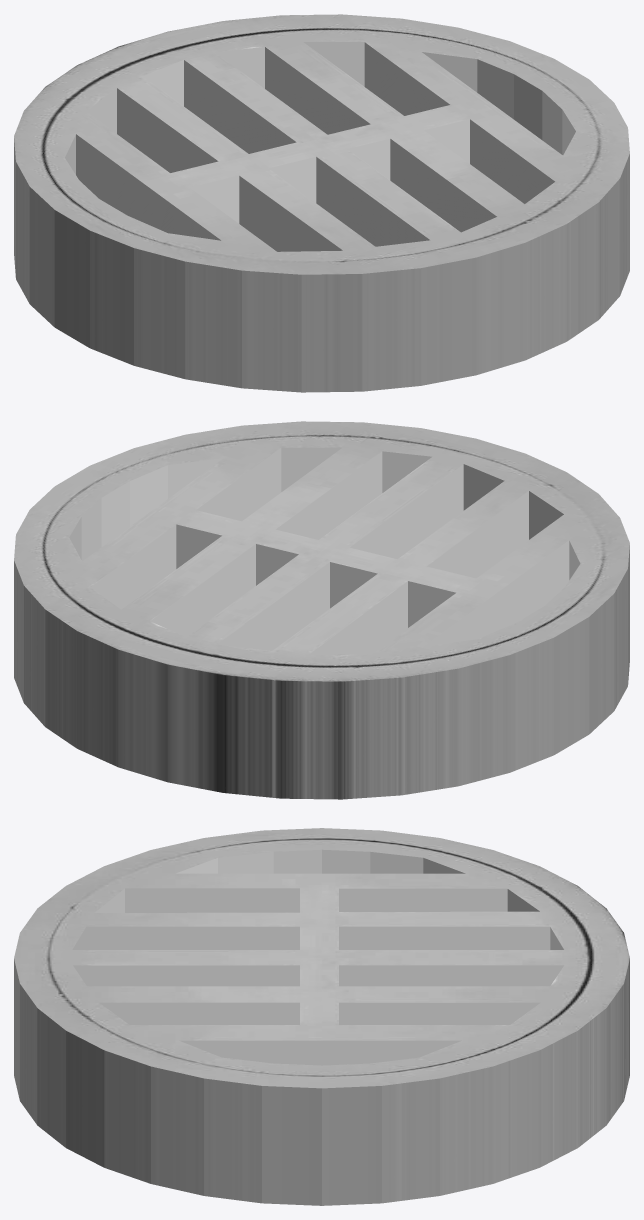
3 views of the same model, one above another, from view 1: azimuth 30°, elevation 25°; view 2: azimuth 150°, elevation 25°; view 3: azimuth 270°, elevation 25° (orthographic).
Parts seen in each view (by area): view 1: G-1; view 2: G-1; view 3: G-1.
Boxes of the visible parts, x1,y1,x2,y2 form: G-1: (14, 14, 629, 392); G-1: (14, 421, 629, 799); G-1: (14, 828, 629, 1205).
Size of the model in its own units: 9.5 by 2 by 9.5.
1 material, 1 textured.
